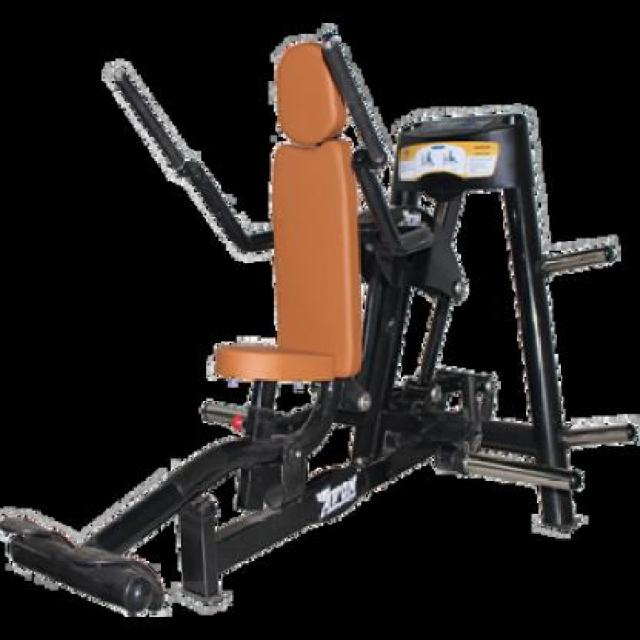seated dip machine: (1, 30, 640, 615)
